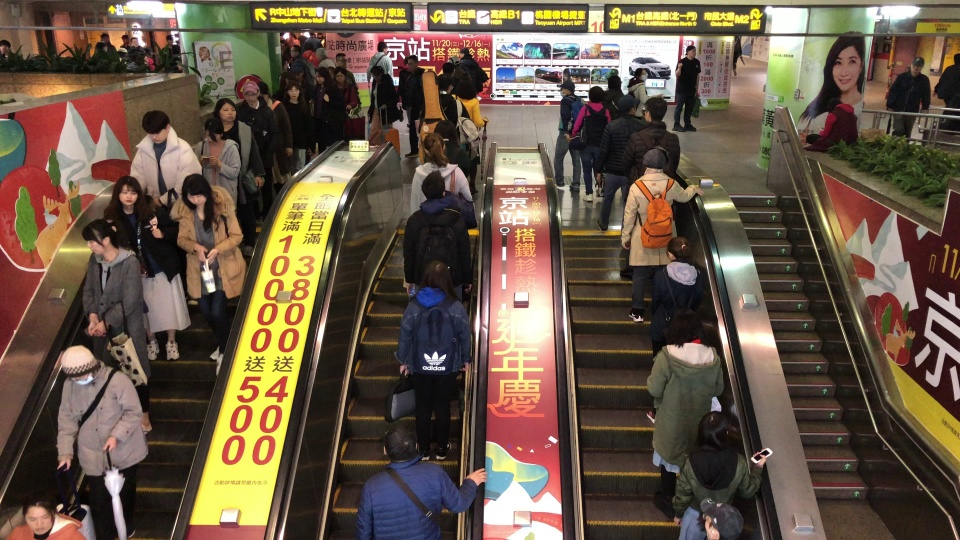person_head: (699, 496, 745, 540), (695, 412, 739, 454), (59, 345, 102, 387), (80, 221, 120, 263), (380, 423, 419, 464), (21, 494, 55, 536), (668, 309, 705, 344), (181, 173, 214, 211), (140, 108, 171, 144), (420, 260, 454, 292), (420, 132, 448, 165), (417, 169, 445, 201), (115, 176, 143, 207), (639, 146, 670, 172), (667, 233, 695, 261), (645, 96, 667, 122), (457, 71, 475, 101), (214, 97, 236, 121), (203, 119, 224, 142), (241, 81, 261, 104), (618, 96, 637, 116), (586, 86, 605, 104), (555, 80, 575, 97), (435, 75, 453, 93), (313, 67, 331, 84), (909, 56, 925, 74), (256, 81, 271, 100), (285, 81, 299, 100), (606, 76, 623, 90), (367, 67, 385, 80), (826, 99, 843, 112), (94, 40, 109, 54), (290, 64, 304, 79), (683, 45, 698, 59), (0, 38, 13, 54), (406, 55, 419, 71), (441, 63, 456, 76), (336, 52, 348, 68), (632, 68, 647, 80), (334, 70, 346, 83), (376, 40, 388, 53), (162, 34, 174, 46), (316, 47, 328, 59), (287, 45, 300, 56), (98, 31, 112, 41), (447, 56, 460, 66), (951, 53, 960, 66), (459, 48, 469, 58), (120, 33, 129, 44), (131, 35, 140, 46), (303, 43, 312, 51)
person_vbox: (382, 260, 478, 460), (55, 344, 150, 540), (74, 221, 153, 436), (644, 308, 725, 517), (102, 175, 190, 362), (166, 172, 247, 365), (355, 422, 488, 539), (619, 145, 704, 316), (668, 412, 772, 540), (645, 234, 713, 424), (401, 168, 476, 300), (620, 95, 682, 234), (213, 97, 266, 255), (128, 107, 203, 206), (595, 95, 648, 234), (420, 69, 478, 175), (409, 131, 474, 214), (453, 69, 493, 194), (193, 118, 241, 219), (234, 81, 276, 190), (569, 86, 608, 202), (883, 56, 932, 143), (256, 80, 295, 184), (11, 492, 88, 540), (551, 79, 582, 192), (363, 67, 406, 135), (283, 80, 315, 170), (670, 44, 701, 134), (401, 54, 425, 159), (806, 97, 858, 145), (312, 66, 339, 155), (625, 66, 664, 118), (932, 52, 960, 117), (333, 50, 361, 111), (458, 49, 488, 93), (600, 75, 627, 120), (367, 40, 393, 84), (334, 69, 358, 112), (286, 45, 315, 75), (289, 64, 313, 98), (93, 28, 117, 59), (159, 33, 181, 64), (447, 57, 471, 83), (129, 36, 147, 62), (314, 47, 336, 68), (731, 35, 741, 76), (119, 32, 132, 62), (302, 43, 316, 63)
